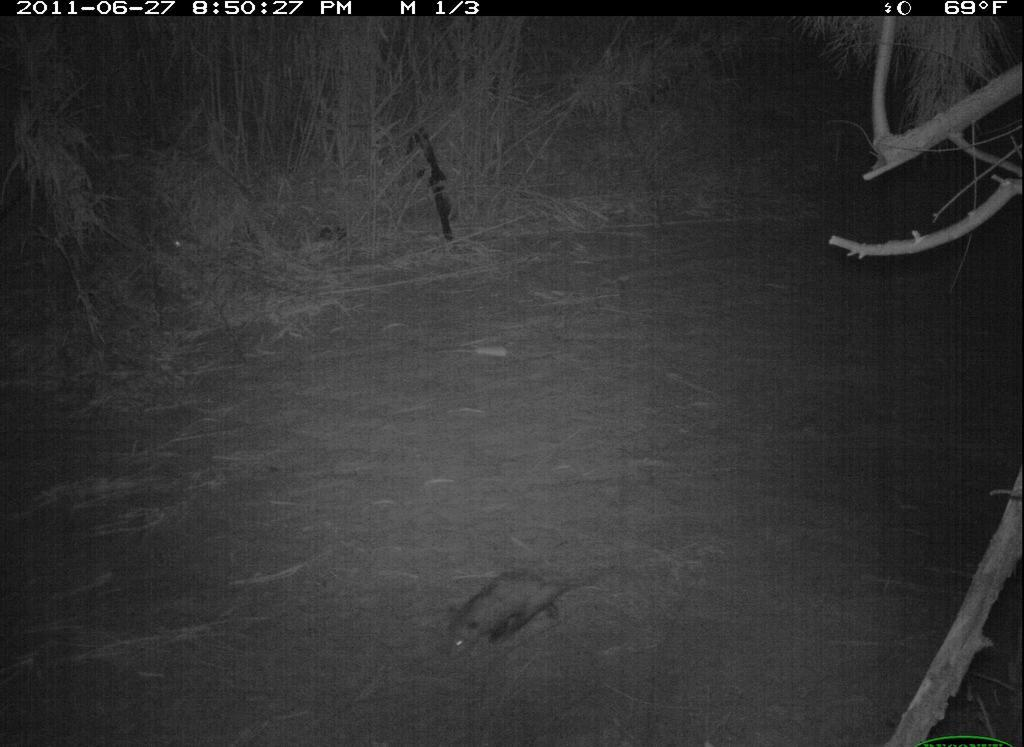opossum: (424, 557, 617, 661)
